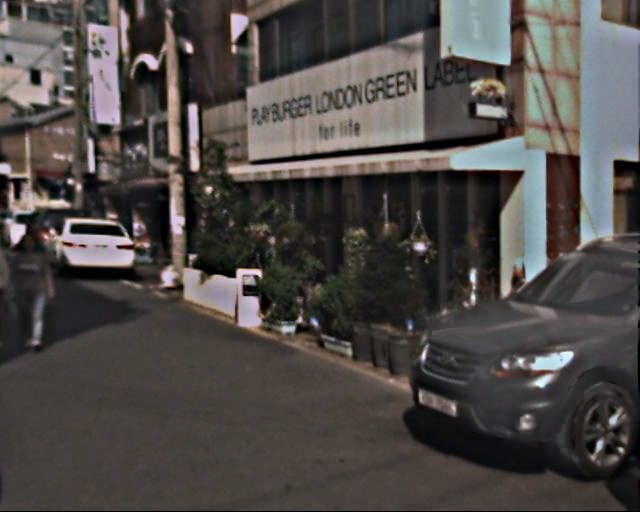person: (8, 224, 62, 349)
